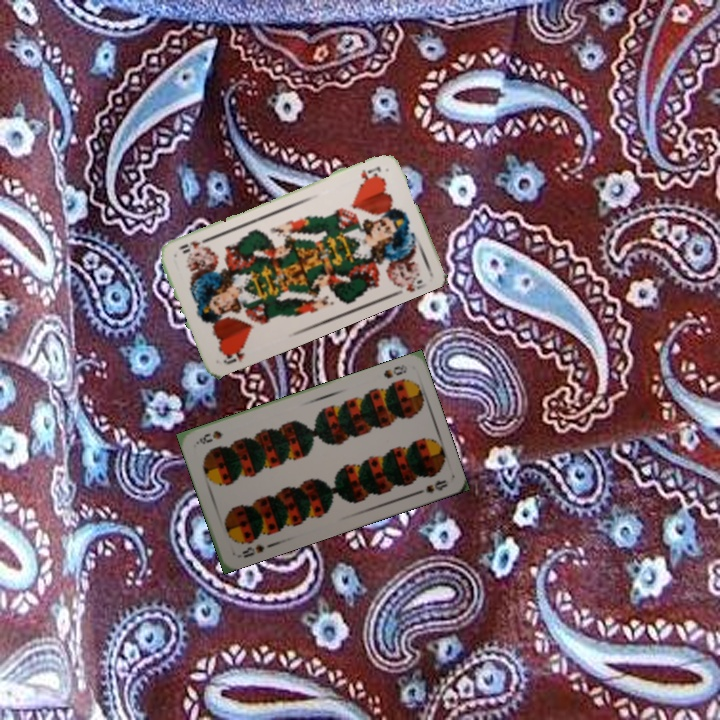HO: (219, 343, 247, 367), (357, 162, 384, 183)
S8: (233, 540, 267, 560), (380, 360, 410, 381)
